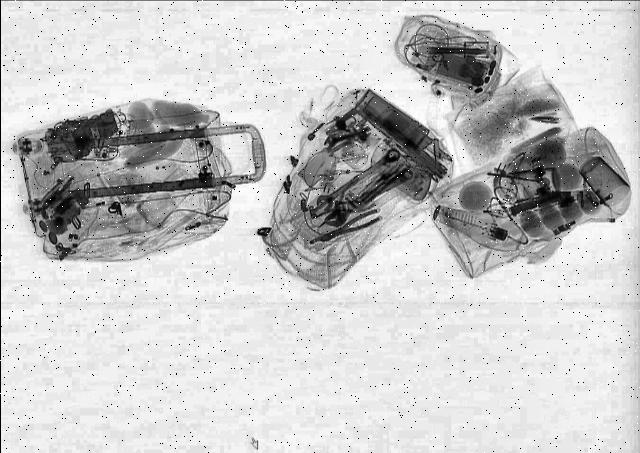Pliers: (312, 208, 386, 246)
Wrench: (317, 166, 423, 230), (310, 146, 404, 212), (322, 138, 353, 156)
